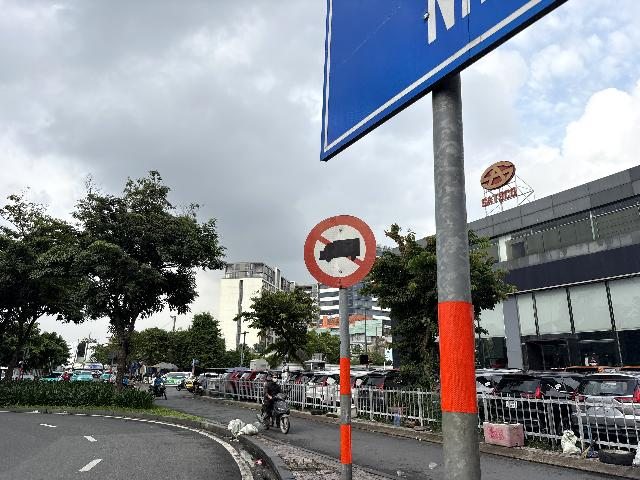cam-xe-tai: (304, 215, 376, 288)
